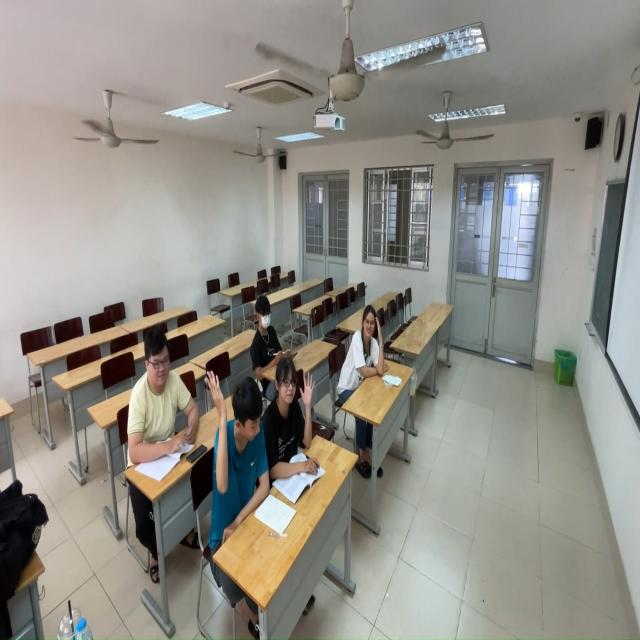raise_hand: (204, 368, 274, 550), (261, 359, 334, 484), (333, 295, 399, 399)
read: (125, 326, 194, 469), (248, 290, 304, 374)
